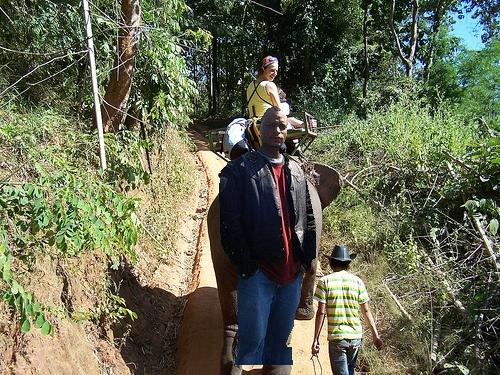tampered: (220, 107, 316, 365)
